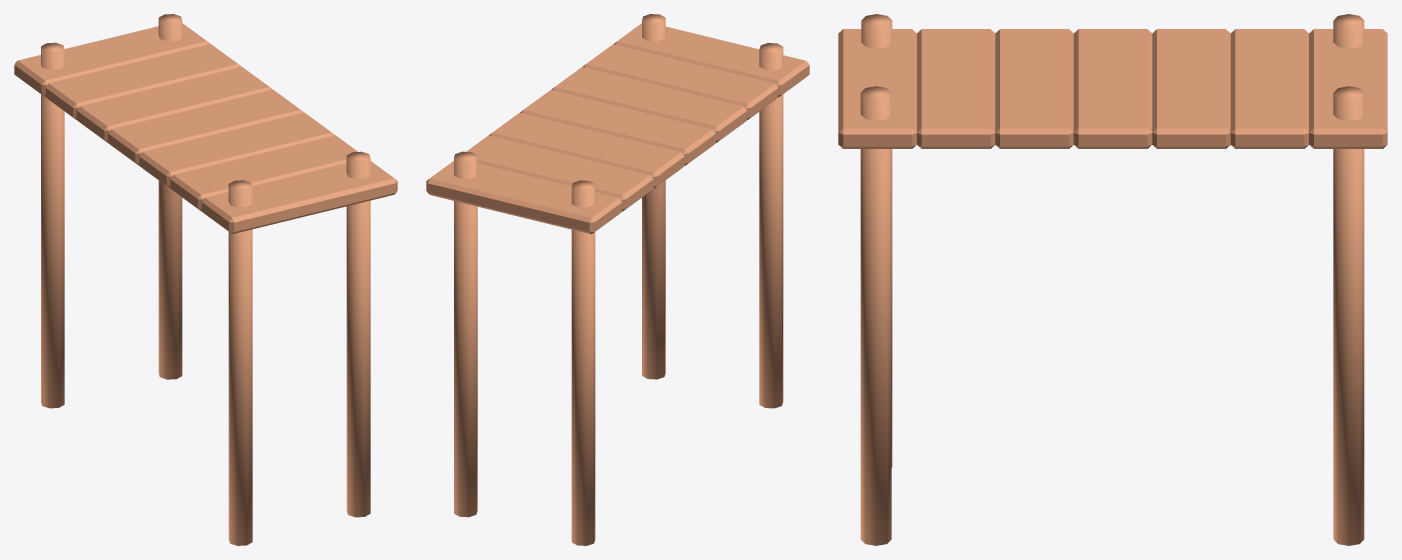
The model's file is Island3.glb.
The picture shows the model from 3 angles, left to right: view 1: azimuth 30°, elevation 25°; view 2: azimuth 150°, elevation 25°; view 3: azimuth 270°, elevation 25°; orthographic projection. The views are drawn at different scales.
Parts seen in each view (by area): view 1: Cube.002, Cylinder.008, Cylinder.009, Cylinder.010, Cylinder; view 2: Cube.002, Cylinder.010, Cylinder.008, Cylinder, Cylinder.009; view 3: Cube.002, Cylinder, Cylinder.009, Cylinder.008, Cylinder.010.
Part boxes in pixels (box(x1,y1,x2,y2)): Cube.002: box(14, 23, 397, 234); Cylinder.008: box(228, 180, 252, 545); Cylinder.009: box(346, 151, 370, 517); Cylinder.010: box(41, 42, 64, 408); Cylinder: box(158, 14, 182, 379); Cube.002: box(426, 23, 809, 234); Cylinder.010: box(571, 180, 595, 545); Cylinder.008: box(759, 43, 783, 408); Cylinder: box(454, 151, 477, 517); Cylinder.009: box(642, 14, 665, 379); Cube.002: box(838, 29, 1387, 148); Cylinder: box(1333, 86, 1364, 545); Cylinder.009: box(860, 86, 891, 545); Cylinder.008: box(861, 14, 892, 467); Cylinder.010: box(1333, 14, 1364, 48).
Bounding box in the file's own units: 0.1022 × 0.206 × 0.2295.
